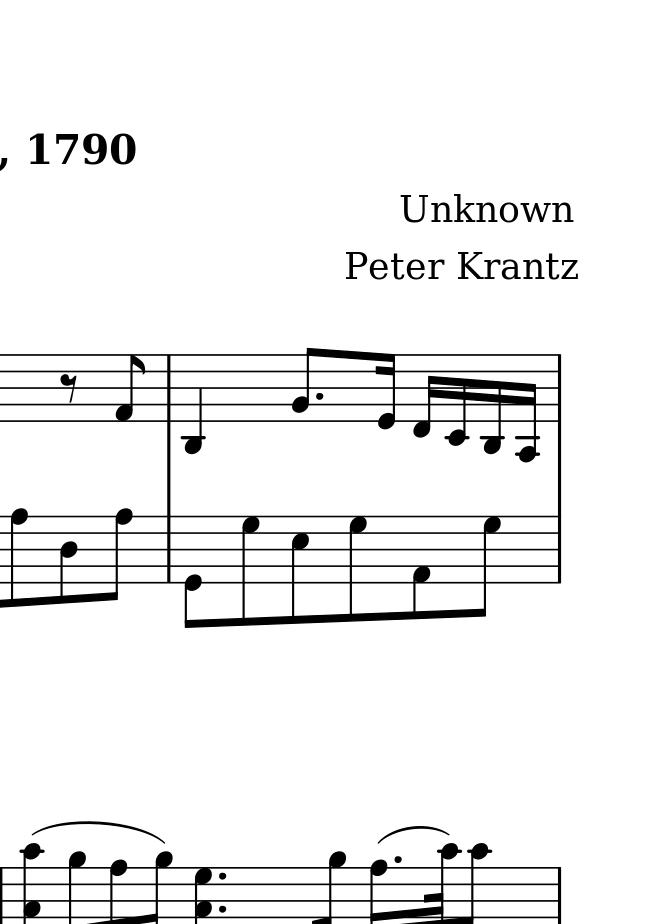16_-1: (412, 351, 439, 442)
16_-2: (446, 352, 469, 447)
16_-3: (482, 353, 506, 455)
16_-4: (514, 351, 540, 463)
16_0: (373, 351, 399, 432)
4_-3: (182, 352, 205, 455)
8_0: (183, 513, 203, 630)
8_1: (112, 352, 145, 423), (410, 515, 431, 621)
8_2: (290, 346, 317, 423)
8_4: (58, 513, 78, 606)
8_5: (290, 514, 310, 626)
8_7: (239, 515, 261, 626), (347, 516, 369, 624)
8_8: (470, 513, 502, 620), (101, 507, 133, 604)
8_9: (8, 507, 29, 610)
Rests8: (59, 372, 81, 405)
Single_barline: (160, 516, 176, 582), (553, 354, 567, 425), (161, 357, 176, 421), (552, 517, 566, 584)
Slur: (31, 821, 168, 844), (375, 823, 449, 841)
dot: (215, 869, 228, 883), (313, 389, 326, 402), (216, 901, 228, 915), (392, 853, 403, 866)
